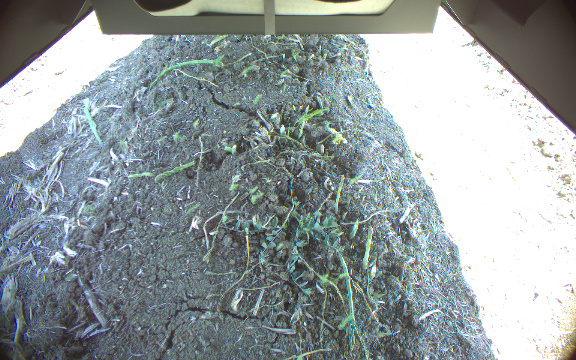aspa: (361, 225, 374, 271)
